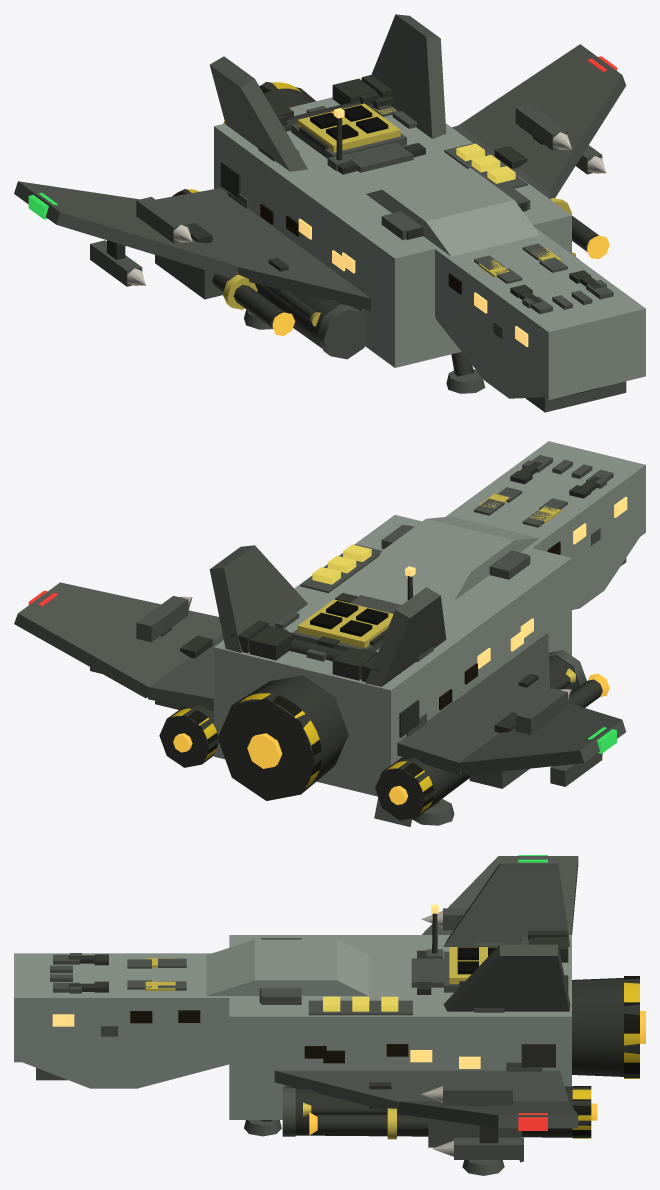
Rendered from fighter-l.glb.
The picture shows the model from 3 angles, top to bottom: view 1: azimuth 30°, elevation 25°; view 2: azimuth 150°, elevation 25°; view 3: azimuth 270°, elevation 25°; orthographic projection. The views are drawn at different scales.
Parts seen in each view (by area): view 1: hullMain, hullForebody, wingOuterRight, wingInnerLeft, canopyFairing, wingOuterLeft, stabilizerFinR, stabilizerFinL, missileBody (×3), engineHousing (×2), engineIntakeRing, hullForebodyChamfer (+12 smaller); view 2: hullMain, engineHousing (×3), hullForebody, wingOuterRight, canopyFairing, wingInnerLeft, wingOuterLeft, stabilizerFinR, stabilizerFinL, missileBody (×3), wingInnerRight, vlsRim (+10 smaller); view 3: hullMain, hullForebody, canopyFairing, engineHousing (×2), wingInnerRight, stabilizerFinL, stabilizerFinR, wingOuterRight, hullForebodyChamfer, missileBody (×2), wingOuterLeft, cannonBarrel (+10 smaller).
Part boxes in pixels (x1,y1,x2,y2): hullMain: [214, 97, 571, 367]; hullForebody: [426, 227, 645, 399]; wingOuterRight: [459, 44, 626, 198]; wingInnerLeft: [156, 188, 370, 310]; canopyFairing: [366, 168, 539, 256]; wingOuterLeft: [14, 181, 238, 278]; stabilizerFinR: [371, 14, 446, 138]; stabilizerFinL: [210, 56, 307, 171]; missileBody (×3): [90, 104, 567, 286]; engineHousing (×2): [182, 81, 351, 348]; engineIntakeRing: [316, 304, 366, 359]; hullForebodyChamfer: [436, 318, 544, 398]; hullMain: [214, 515, 571, 796]; engineHousing (×3): [159, 656, 578, 820]; hullForebody: [445, 441, 645, 586]; wingOuterRight: [14, 582, 222, 698]; canopyFairing: [366, 516, 539, 600]; wingInnerLeft: [397, 633, 549, 775]; wingOuterLeft: [458, 703, 625, 775]; stabilizerFinR: [209, 545, 307, 652]; stabilizerFinL: [365, 587, 446, 686]; missileBody (×3): [136, 596, 602, 786]; wingInnerRight: [148, 633, 223, 710]; vlsRim: [297, 599, 393, 648]; hullMain: [229, 935, 571, 1119]; hullForebody: [14, 953, 245, 1062]; canopyFairing: [206, 939, 368, 995]; engineHousing (×2): [295, 978, 639, 1137]; wingInnerRight: [274, 1070, 568, 1113]; stabilizerFinL: [443, 863, 570, 946]; stabilizerFinR: [443, 944, 570, 1011]; wingOuterRight: [398, 1101, 578, 1128]; hullForebodyChamfer: [23, 1062, 229, 1088]; missileBody (×2): [443, 1083, 523, 1159]; wingOuterLeft: [422, 856, 578, 934]; cannonBarrel: [317, 1114, 428, 1132].
Size of the model in its own units: 3.4 by 1.34 by 3.43.
